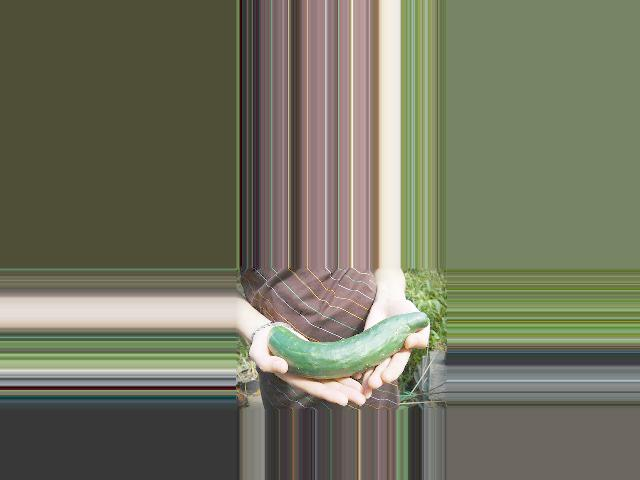cucumber: (266, 312, 428, 379)
